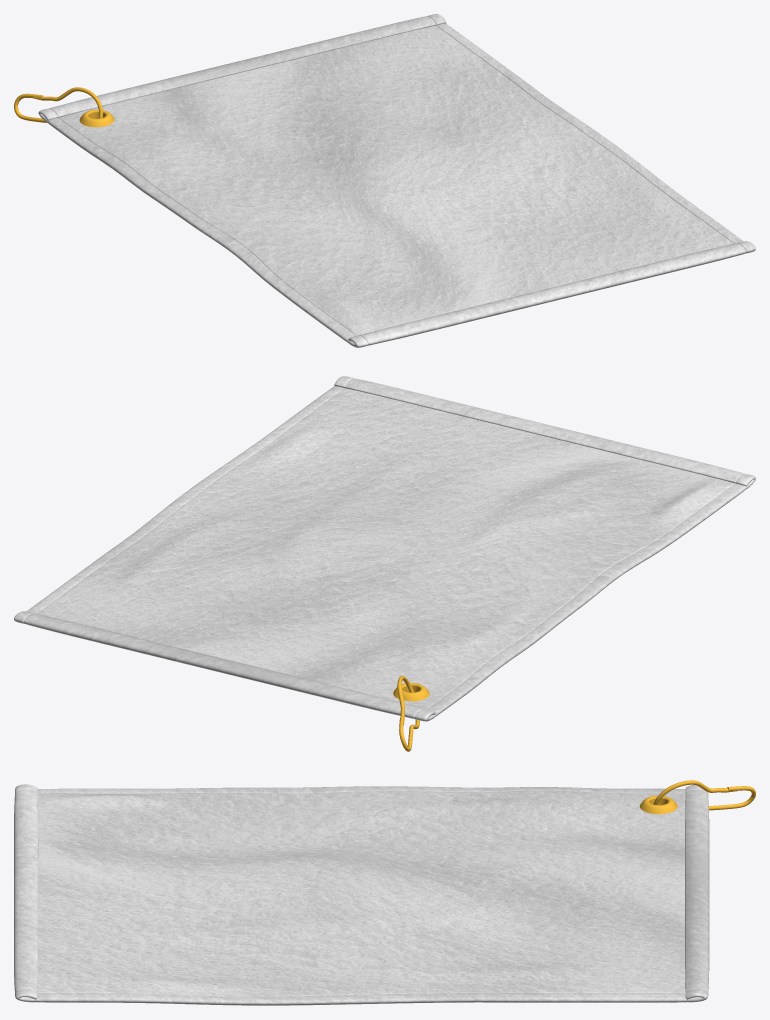
3 renders of one model, top to bottom at view 1: azimuth 30°, elevation 25°; view 2: azimuth 150°, elevation 25°; view 3: azimuth 270°, elevation 25°, orthographic. The views are drawn at different scales.
Parts seen in each view (by area): view 1: polySurface1, pCylinder004; view 2: polySurface1, pCylinder004; view 3: polySurface1, pCylinder004, polySurface2.
Part boxes in pixels (box(x1,y1,x2,y2)): polySurface1: box(38, 14, 755, 347); pCylinder004: box(14, 87, 102, 122); polySurface1: box(14, 376, 755, 721); pCylinder004: box(397, 676, 419, 751); polySurface1: box(14, 784, 709, 1005); pCylinder004: box(653, 780, 755, 810); polySurface2: box(639, 795, 677, 814).
Size of the model in its own units: 0.7338 by 0.0773 by 1.07.
Materials: 2 (1 with a texture image).
